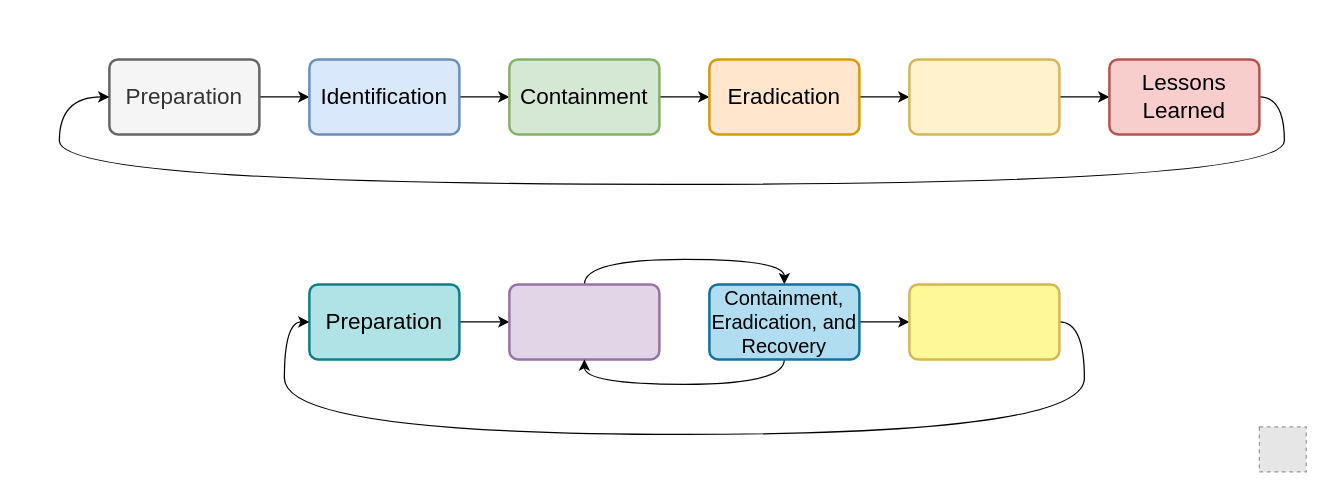
The diagram is 1330 pixels wide and 494 high, and some of its shapes have lost their labels. Grey dashed boxes stand in for pictures. The shapes that lost their labels are listed below. From the top down, each one's centre as x and y in pixels, then its label:
point 984,96: Recovery
point 584,321: Detection and Analysis
point 984,321: Post-Incident Activity
